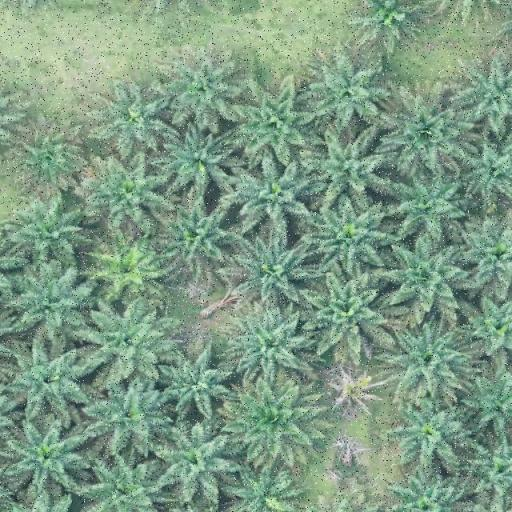Ganoderma: (106, 248, 148, 292), (333, 377, 371, 409)
